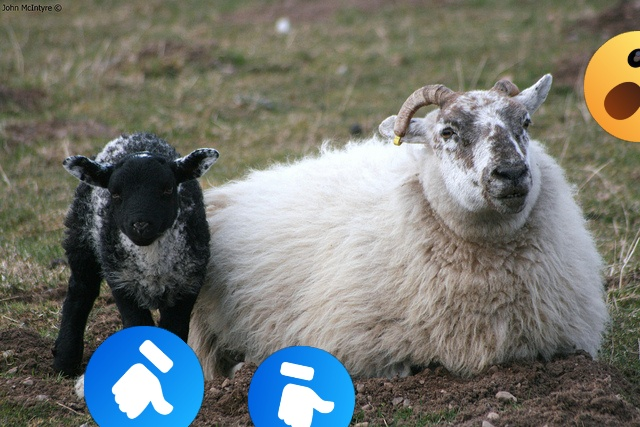like: (84, 326, 204, 427), (248, 346, 355, 427)
wow: (584, 31, 640, 142)
